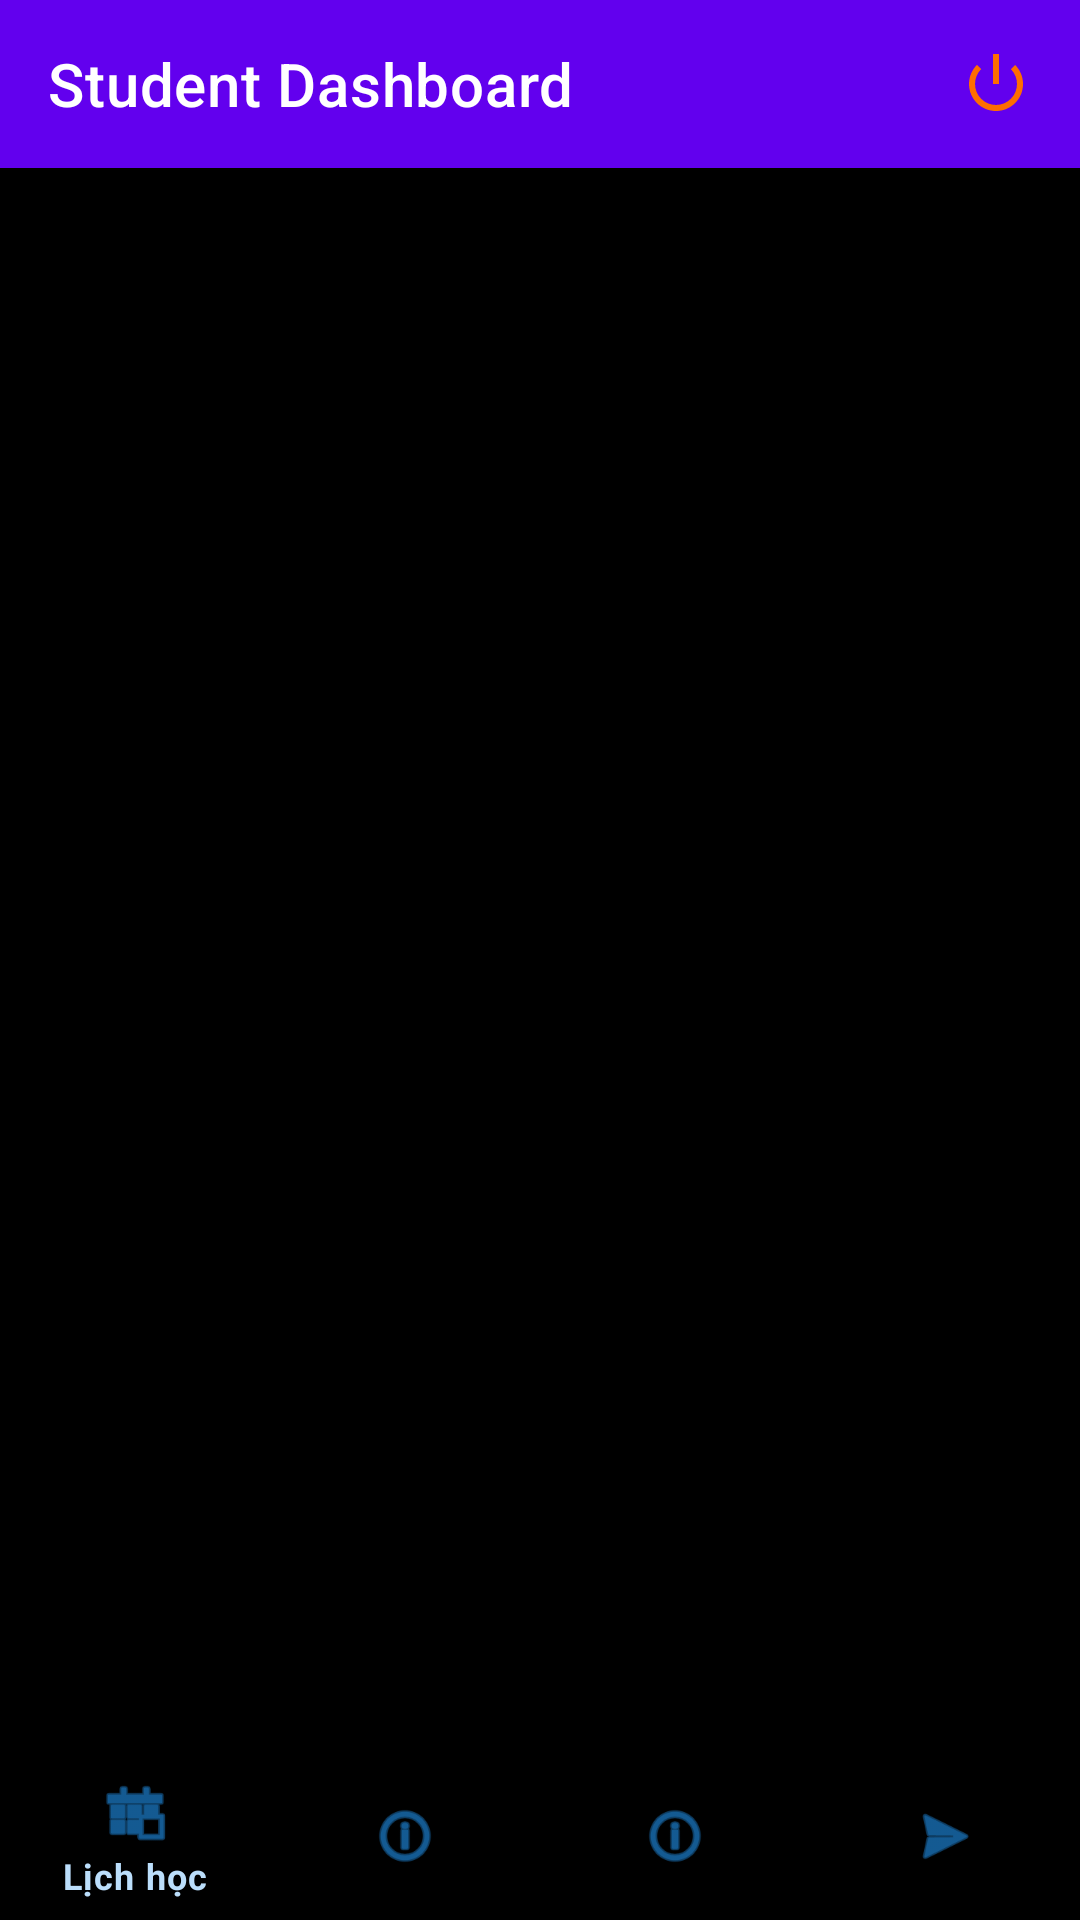

Icon bounding boxes for this 1080px×1920px phone screenshot, format [x1,y1,x2,y2]:
Đăng xuất: [969,54,1023,111]
